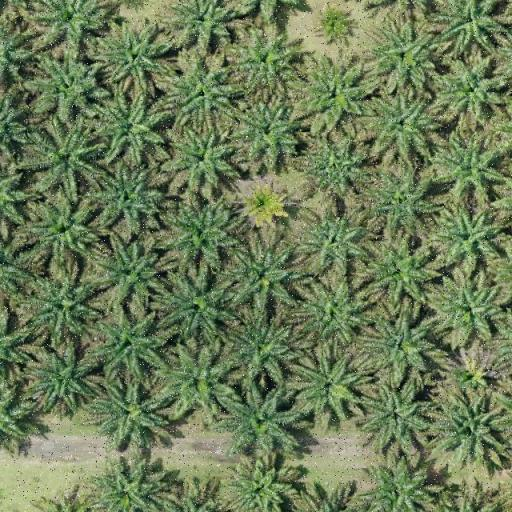Ganoderma: (242, 186, 284, 222)
